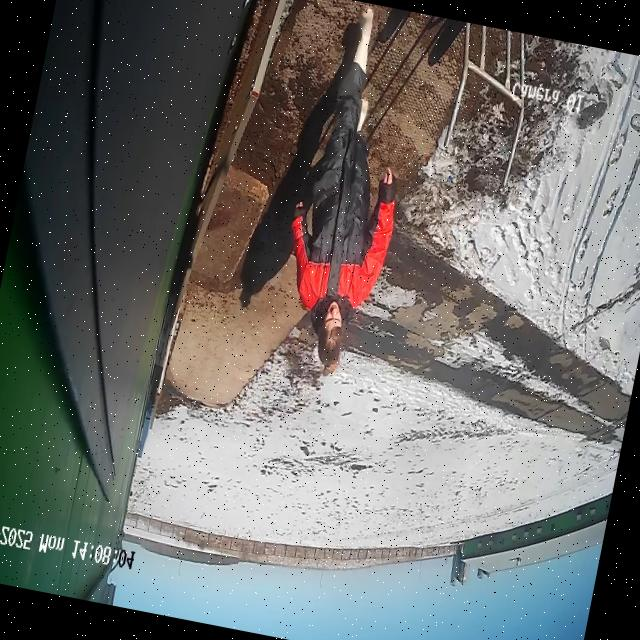Red uniform: (292, 63, 395, 323)
